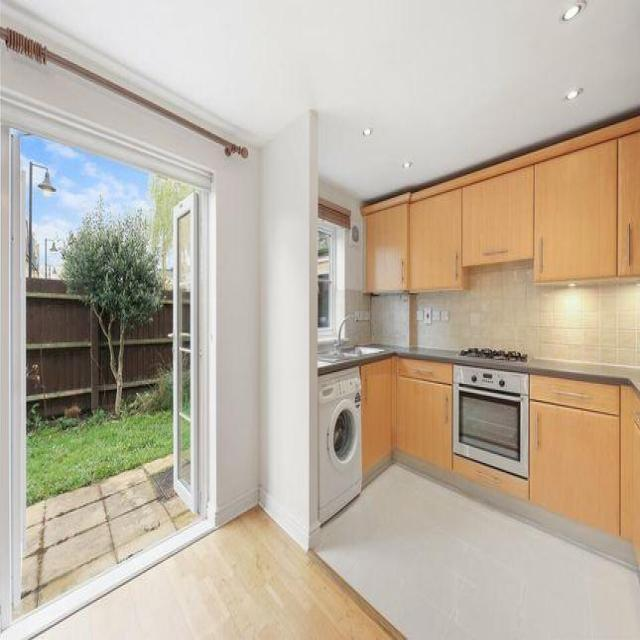Wall: (0, 49, 319, 547), (15, 0, 640, 200), (41, 465, 640, 638), (416, 261, 640, 365), (319, 180, 408, 346)
